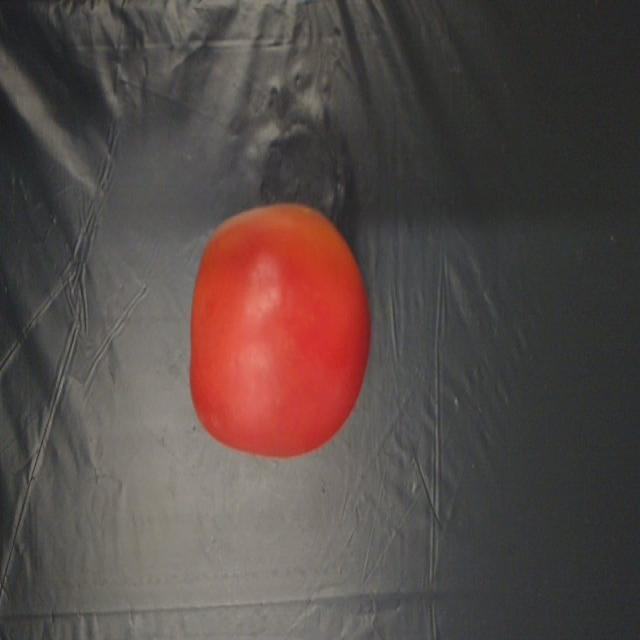kirmizi: (187, 196, 377, 459)
